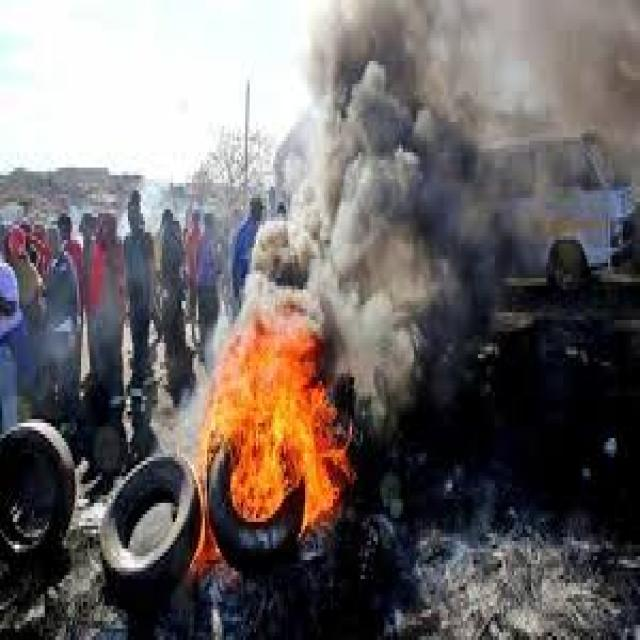Fire: (203, 326, 341, 518), (194, 522, 219, 574), (340, 442, 354, 484)
Smoke: (306, 1, 640, 158), (308, 158, 510, 322), (468, 155, 585, 271), (342, 324, 417, 426), (285, 122, 309, 324), (242, 222, 285, 330)
